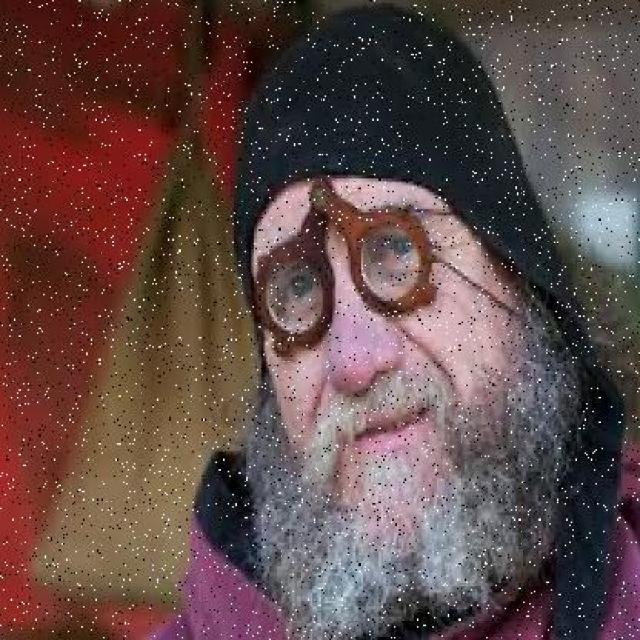mask: (252, 201, 434, 337)
